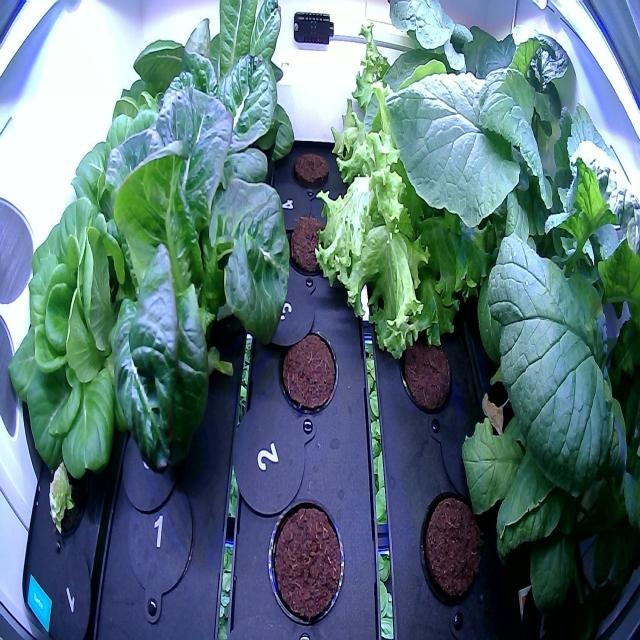Ready: (95, 96, 299, 480), (4, 187, 145, 502), (123, 0, 303, 204), (62, 79, 176, 265)
empty_pod: (117, 477, 201, 607)
pod: (262, 488, 352, 632), (412, 482, 488, 614), (271, 318, 344, 429), (389, 316, 462, 424), (273, 204, 337, 288), (285, 131, 334, 198)
